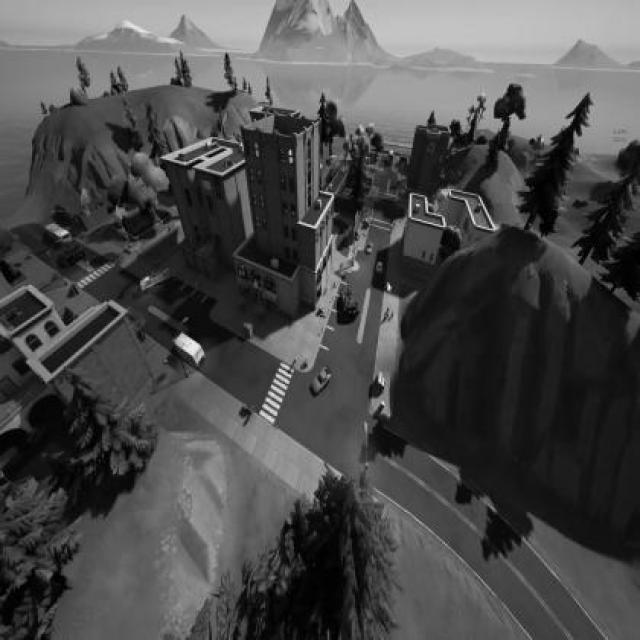tank: (340, 279, 359, 320), (57, 241, 85, 266)
